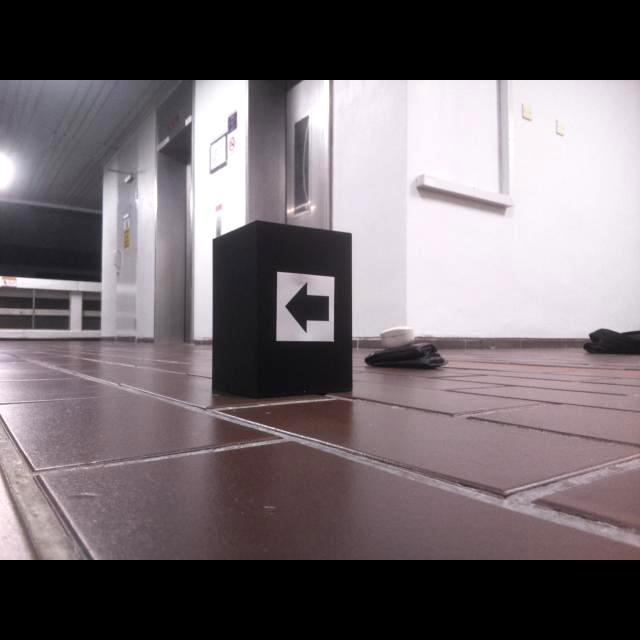LEFT: (284, 281, 329, 334)
